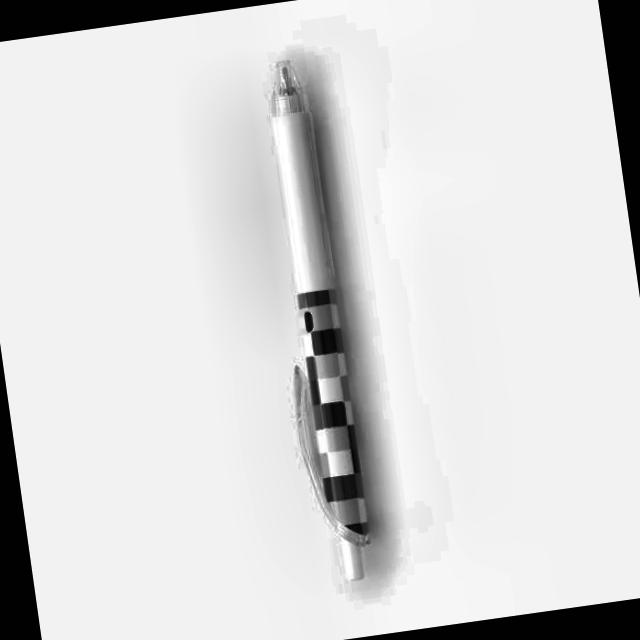Pen: (242, 41, 386, 595)
